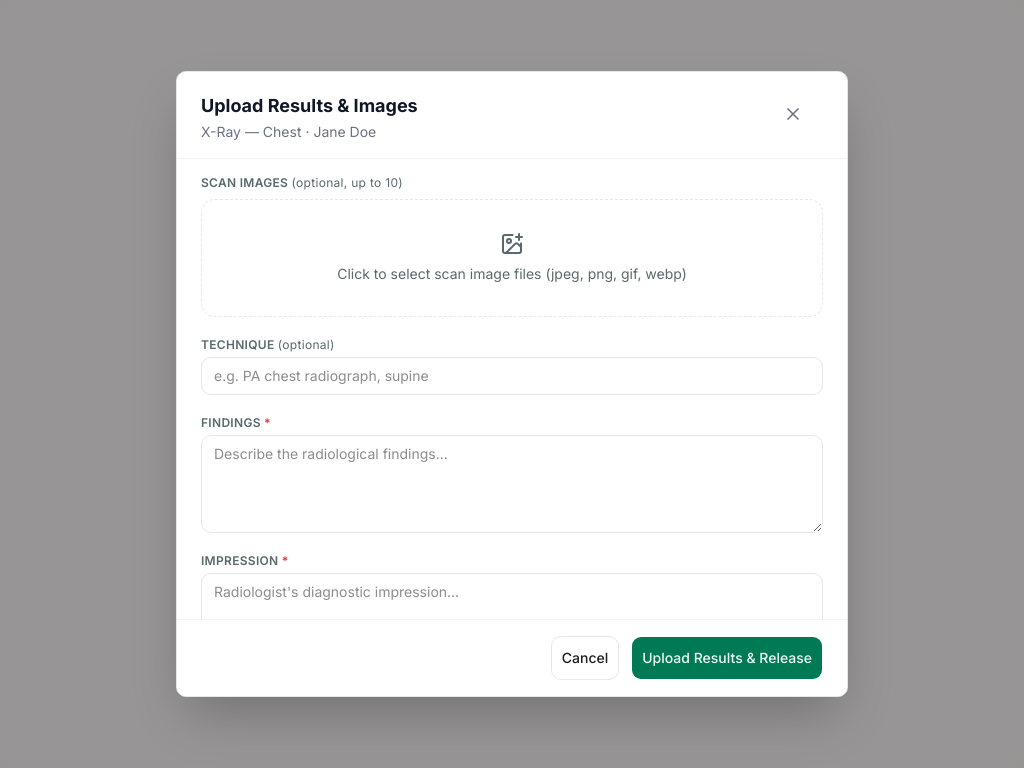
Test case: ImagingUploadModal › shows a success message after a successful submit
Type "F" into the text box with placeholder "Describe the radiological findings...". click: (512, 484)
box: [201,435,823,533]
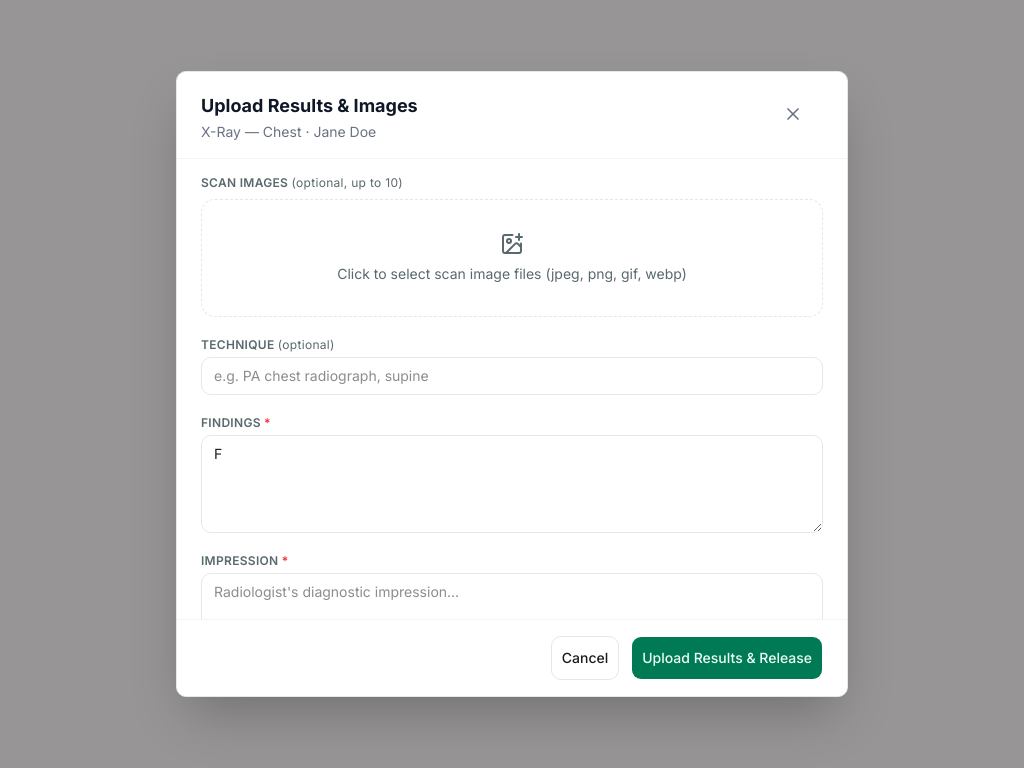
Type "I" into the text box with placeholder "Radiologist's diagnostic impression...". click: (512, 612)
box: [201,573,823,651]
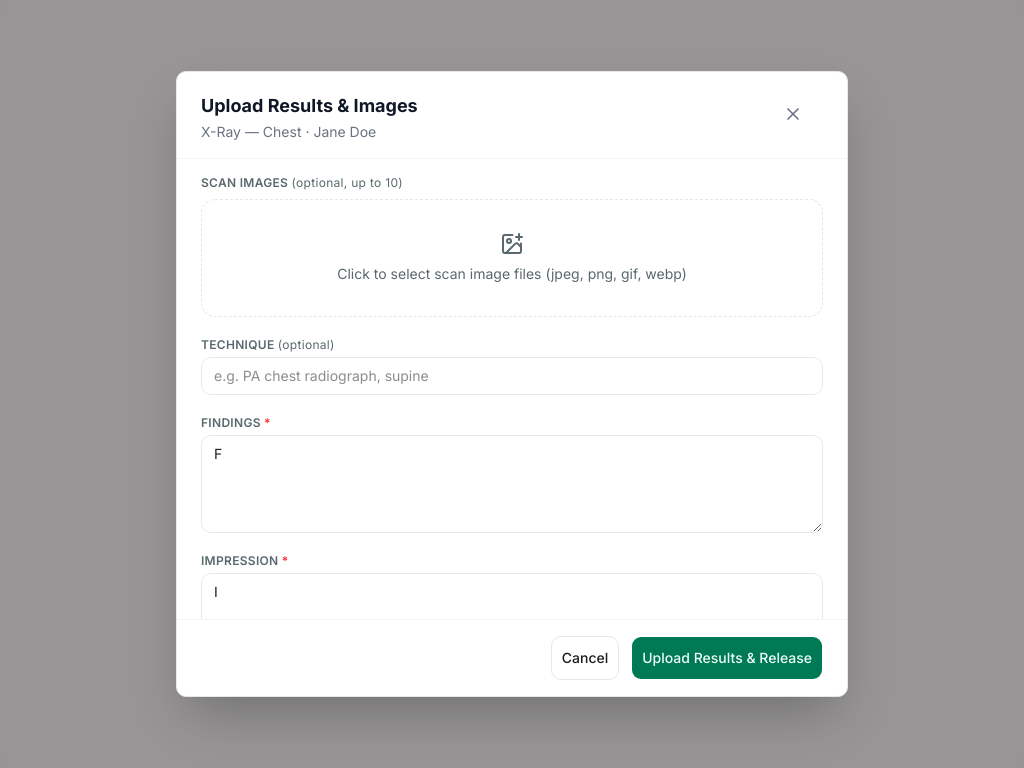
Click the button "Upload Results & Release". click: (727, 658)
box: [631,636,823,680]
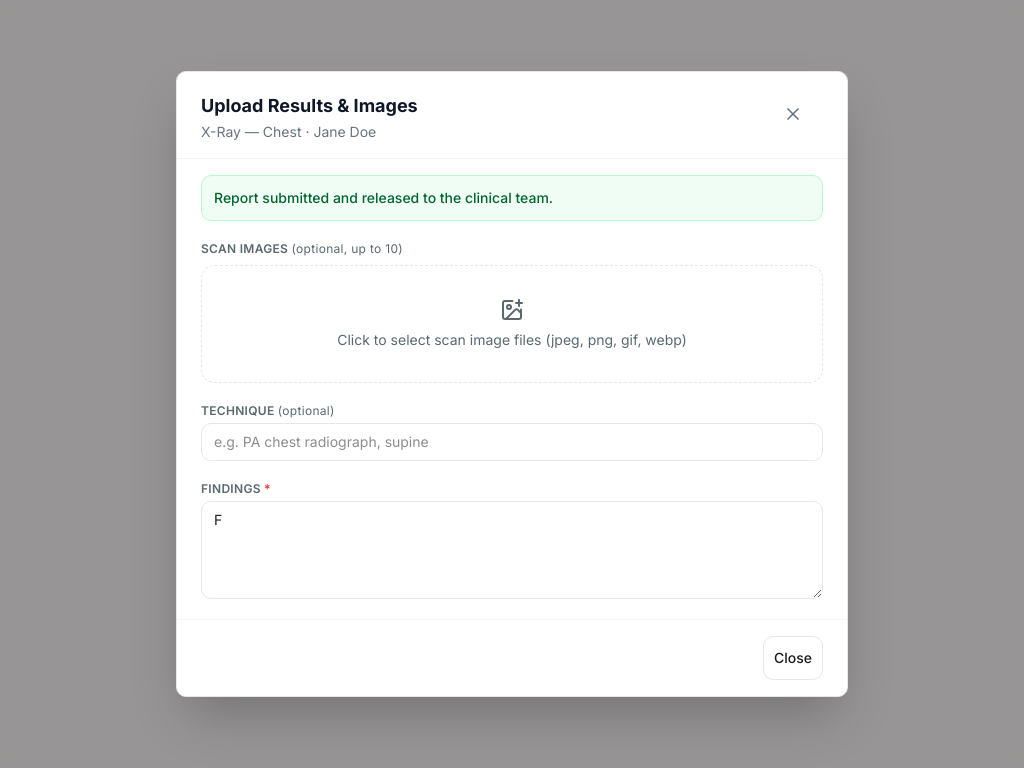
Result: the text "Report submitted and released to the clinical team." is shown at [201,175,823,221]
